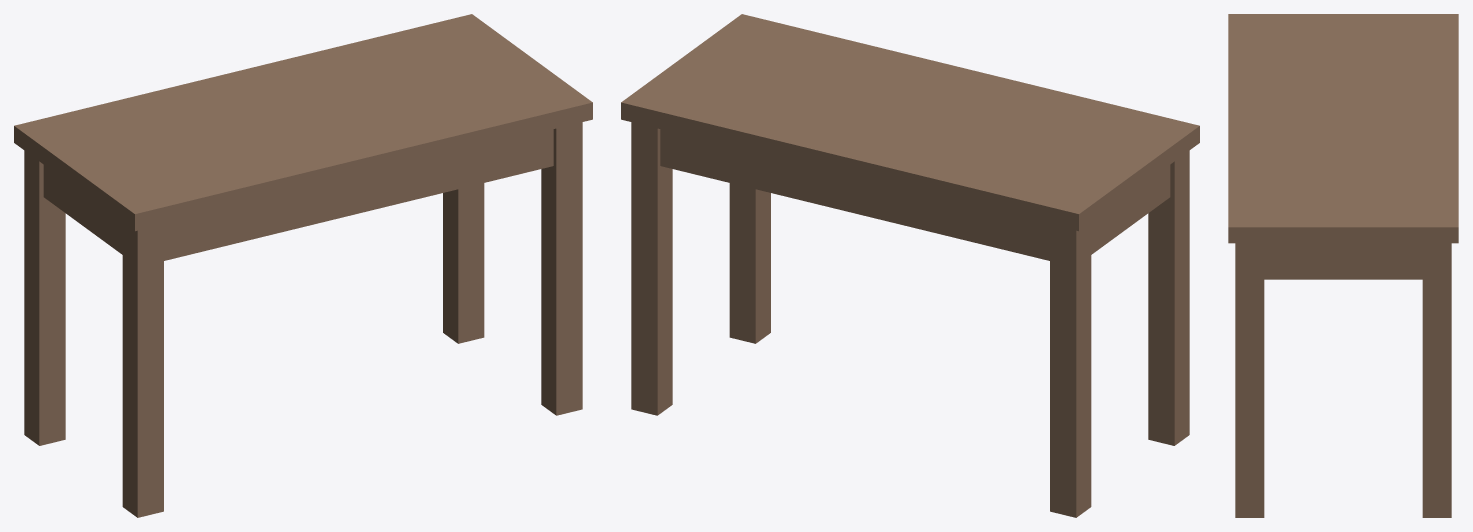
The model's file is 356_サイドテーブル.glb.
3 renders of one model, left to right at view 1: azimuth 30°, elevation 25°; view 2: azimuth 150°, elevation 25°; view 3: azimuth 270°, elevation 25°, orthographic. The views are drawn at different scales.
Parts seen in each view (by area): view 1: Body1; view 2: Body1; view 3: Body1.
Part boxes in pixels (left/top/right/bottom): Body1: left=14, top=14, right=592, bottom=517; Body1: left=621, top=14, right=1199, bottom=517; Body1: left=1228, top=14, right=1458, bottom=517.
Bounding box in the file's own units: 0.7 × 0.45 × 0.32.
